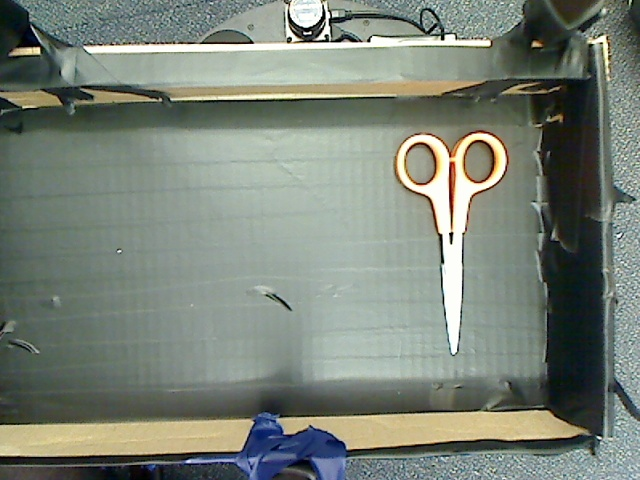scissors: (378, 107, 520, 381)
